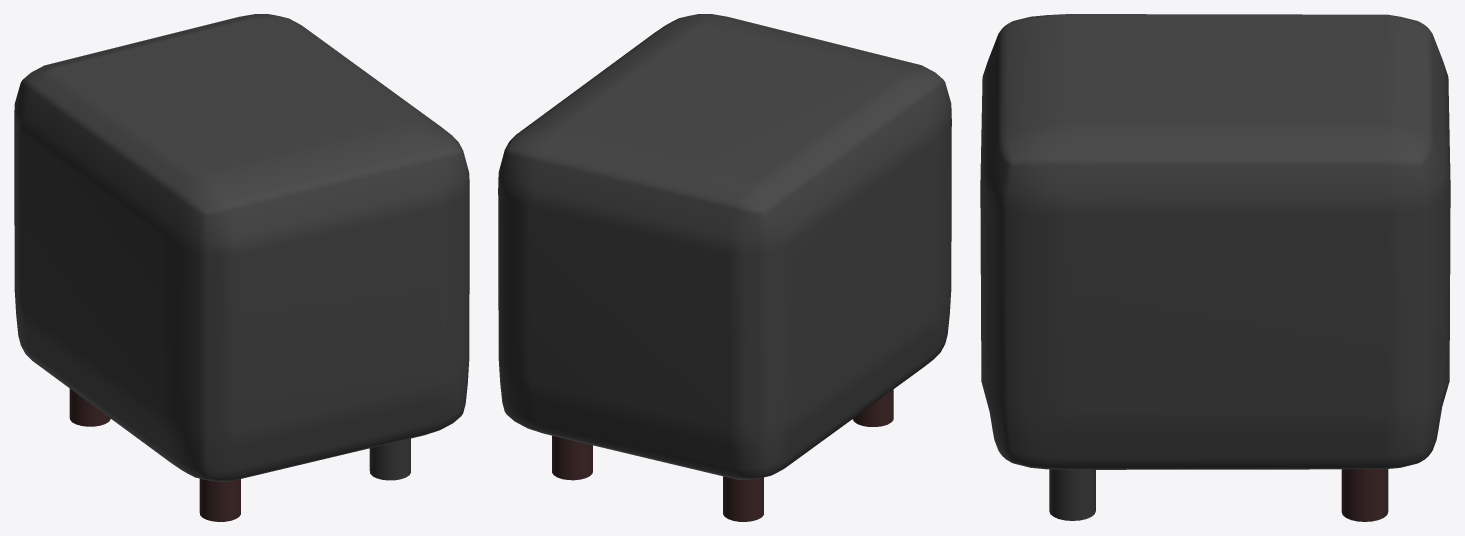
Rendered from Bench.fbx.
The picture shows the model from 3 angles, left to right: view 1: azimuth 30°, elevation 25°; view 2: azimuth 150°, elevation 25°; view 3: azimuth 270°, elevation 25°; orthographic projection. The views are drawn at different scales.
Parts seen in each view (by area): view 1: pCube1, pasted__pCylinder1, pCylinder1, pasted__pasted__pCylinder1; view 2: pCube1, pasted__pasted__pCylinder1, pasted__pasted__pasted__pCylinder1, pasted__pCylinder1; view 3: pCube1, pasted__pasted__pasted__pCylinder1, pCylinder1.
Boxes of the visible parts, x1,y1,x2,y2 form: pCube1: (14, 14, 469, 481); pasted__pCylinder1: (199, 478, 240, 521); pCylinder1: (369, 438, 410, 480); pasted__pasted__pCylinder1: (69, 388, 110, 426); pCube1: (498, 14, 951, 479); pasted__pasted__pCylinder1: (723, 476, 763, 521); pasted__pasted__pasted__pCylinder1: (552, 435, 592, 480); pasted__pCylinder1: (852, 389, 893, 426); pCube1: (980, 14, 1450, 469); pasted__pasted__pasted__pCylinder1: (1341, 469, 1388, 521); pCylinder1: (1049, 469, 1095, 520).
Bounding box in the file's own units: 3.67 × 4.2 × 4.56.
